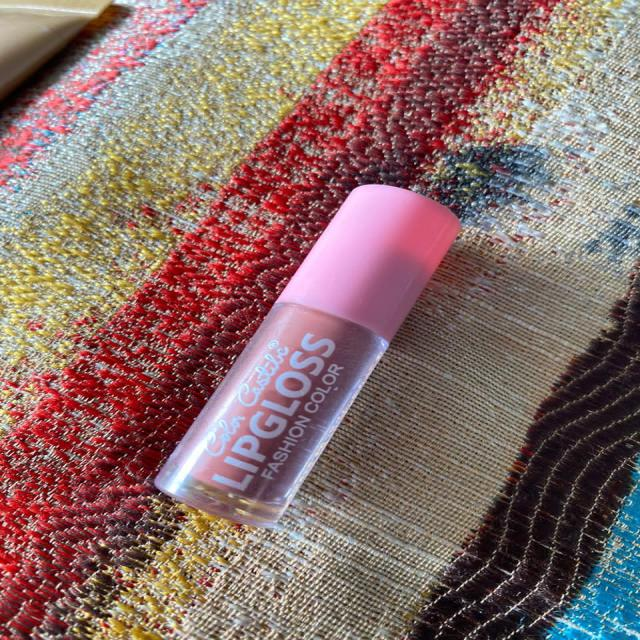lip gloss: (113, 164, 490, 544)
